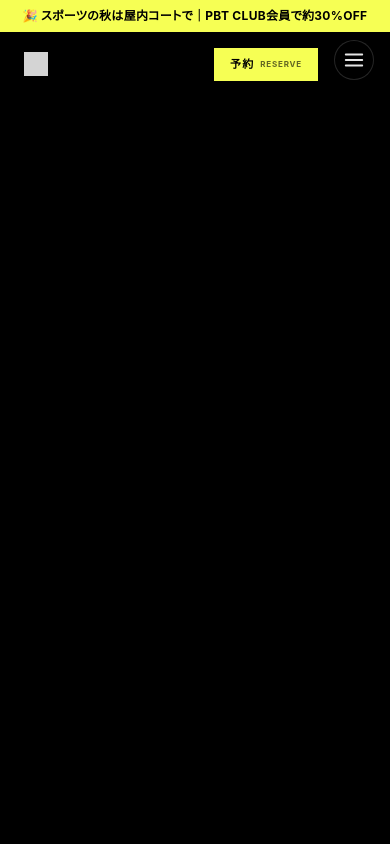
Test case: HomeNavigation › showColumns=true でNEWS直後のヘッダーとモバイルメニューにCOLUMN／コラムを表示する
Click the button named "メニューを開く" at (354, 60), box left=334, top=40, right=374, bottom=80
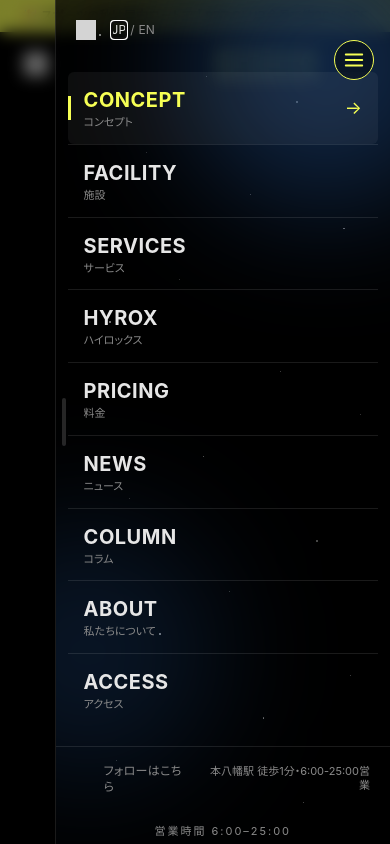
Check: the link "COLUMN コラム" is shown, box left=84, top=524, right=177, bottom=566
